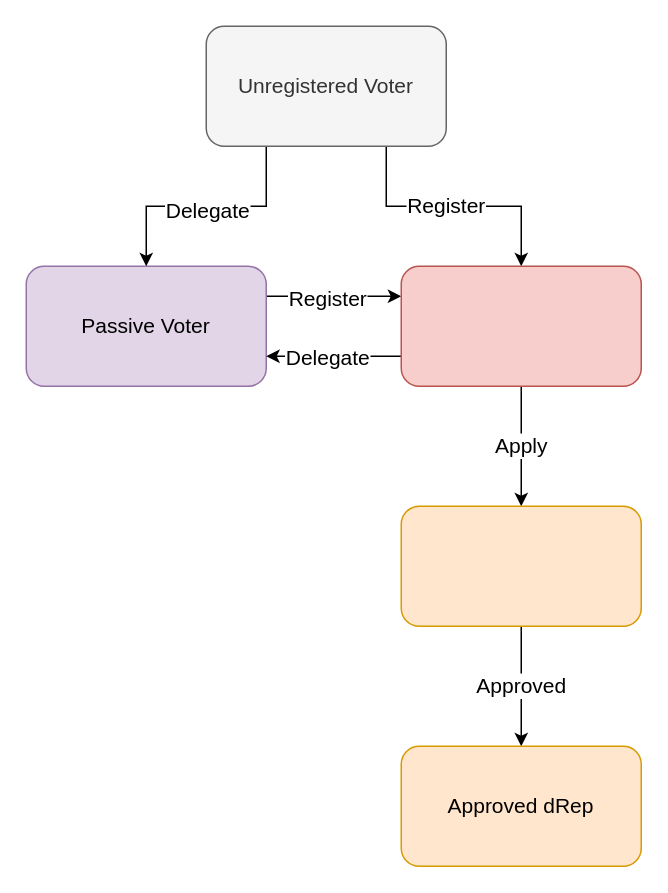
Image size: 668x893. Some labels were removed from this diagram. The box of each missing label's shape, as (x1, y1, x2, y2) in pixels:
Active Voter: (400, 265, 641, 386)
Unapproved dRep: (400, 505, 641, 626)
